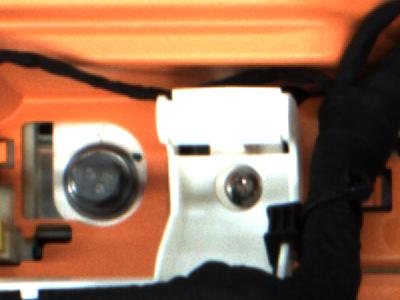nut_b: (60, 141, 146, 221)
